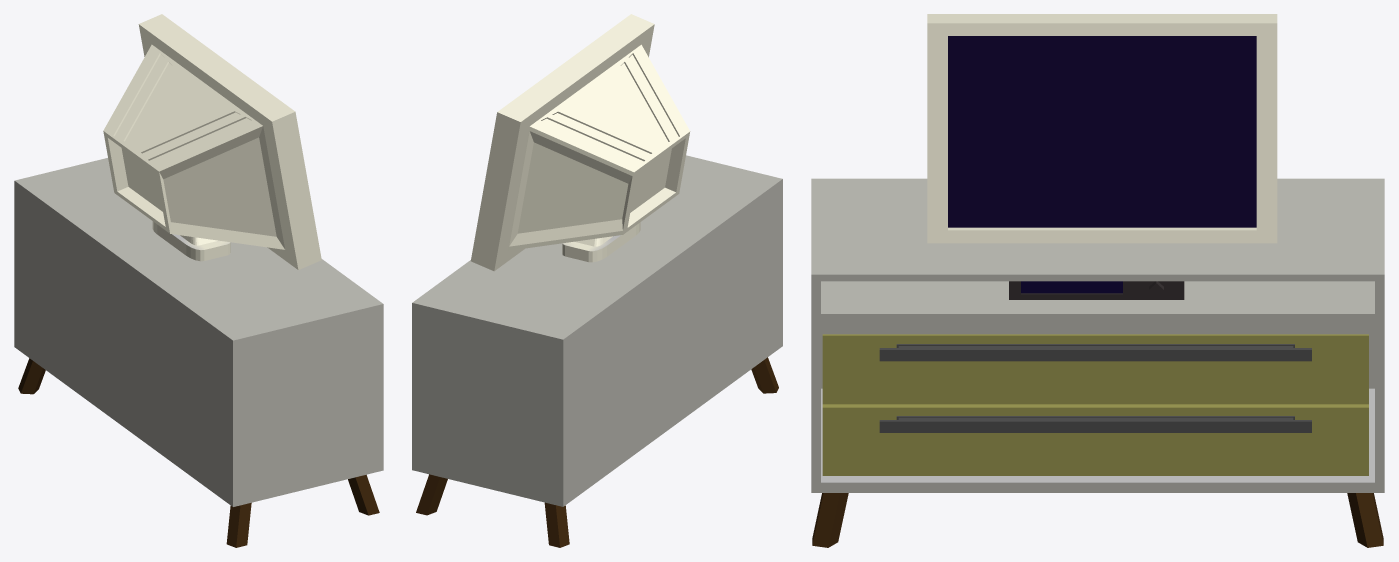
Rendered from TVLV1.fbx.
3 views of the same model, side by side, from view 1: azimuth 30°, elevation 25°; view 2: azimuth 150°, elevation 25°; view 3: azimuth 270°, elevation 25° (orthographic). The views are drawn at different scales.
Visible parts, largest first — view 1: Kostka.001; view 2: Kostka.001; view 3: Kostka.001.
Boxes of the visible parts, box(x1,y1,x2,y2) form: Kostka.001: box(14, 14, 383, 547); Kostka.001: box(412, 14, 782, 547); Kostka.001: box(811, 14, 1384, 547).
Size of the model in its own units: 206 by 482 by 504.
1 material, 1 textured.
